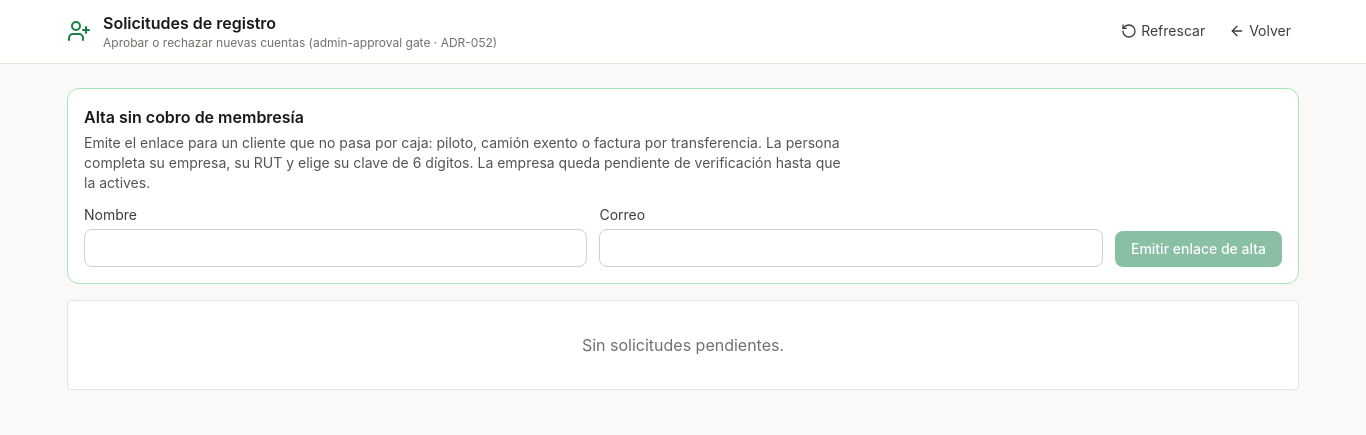
Test: PlatformAdminSignupRequestsRoute — alta por exención › solicitud pendiente → muestra el mensaje para aprobarla en la lista
Expected: the button "Emitir enlace de alta" is shown, [1115, 231, 1282, 267]
In the field labelled "Nombre": (336, 248) [84, 229, 588, 267], type "Ana Pérez"
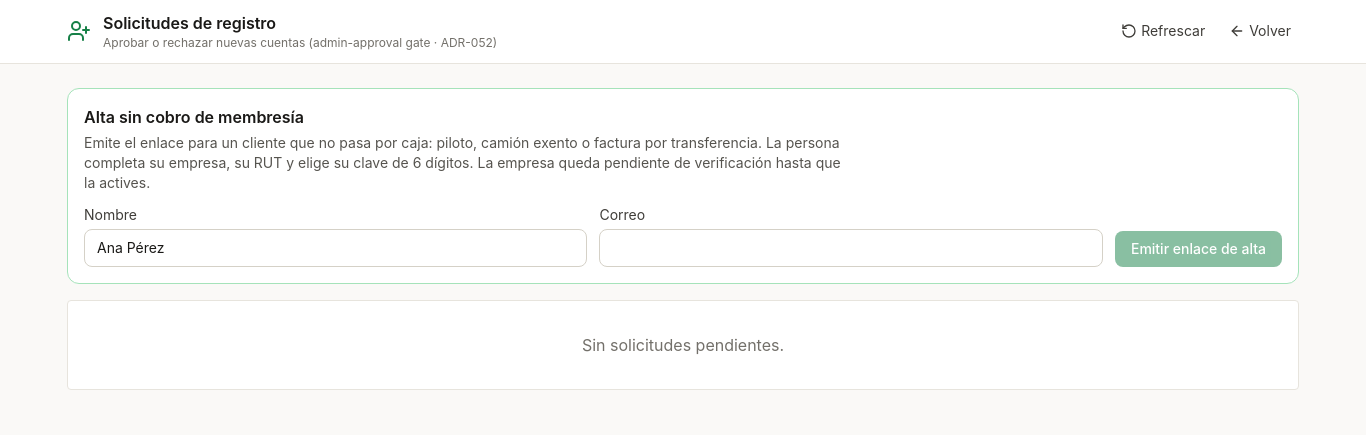
In the field labelled "Correo": (851, 248) [600, 229, 1103, 267], type "ana@cliente.cl"
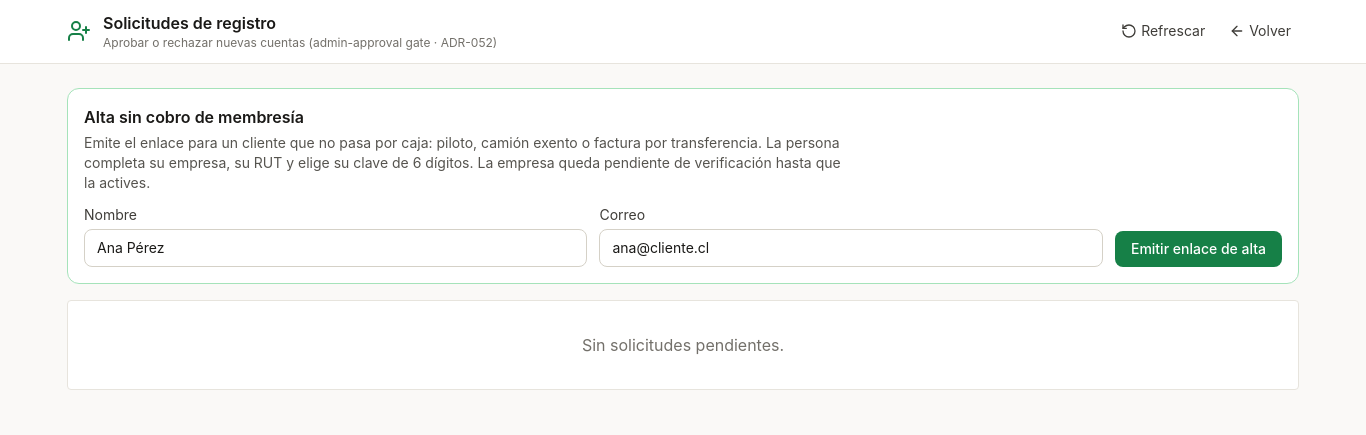
Click the button "Emitir enlace de alta": click(1198, 249) [1115, 231, 1282, 267]
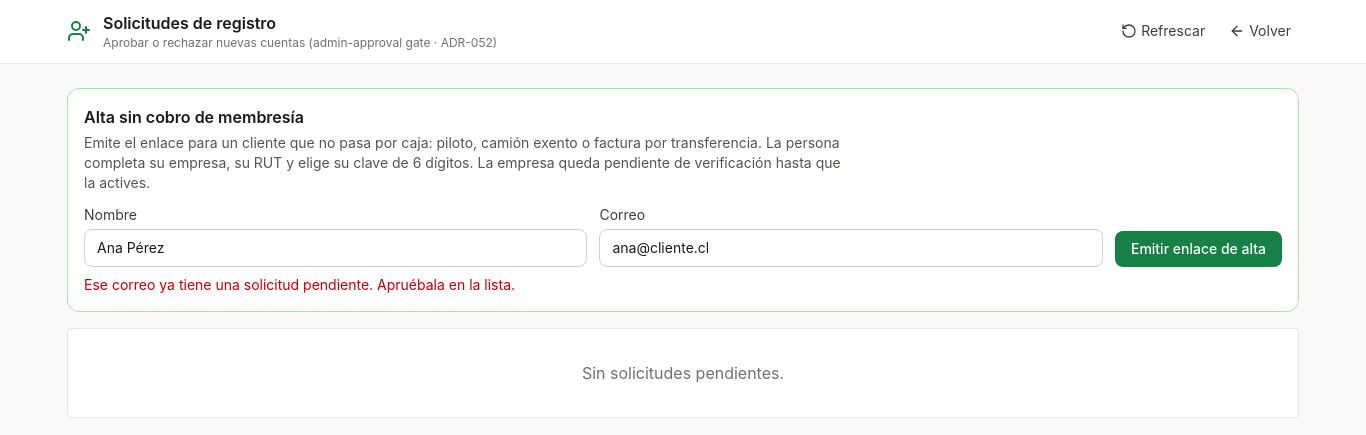
Expected: the text "Apruébala en la lista" is shown, [84, 276, 515, 293]
